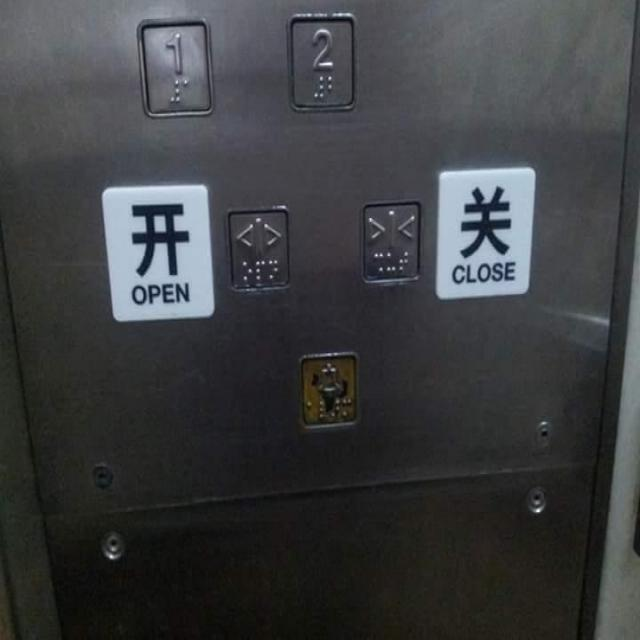1: (133, 11, 218, 122)
2: (283, 8, 359, 116)
alarm: (296, 345, 360, 432)
close: (357, 194, 423, 288)
open: (222, 202, 294, 295)
